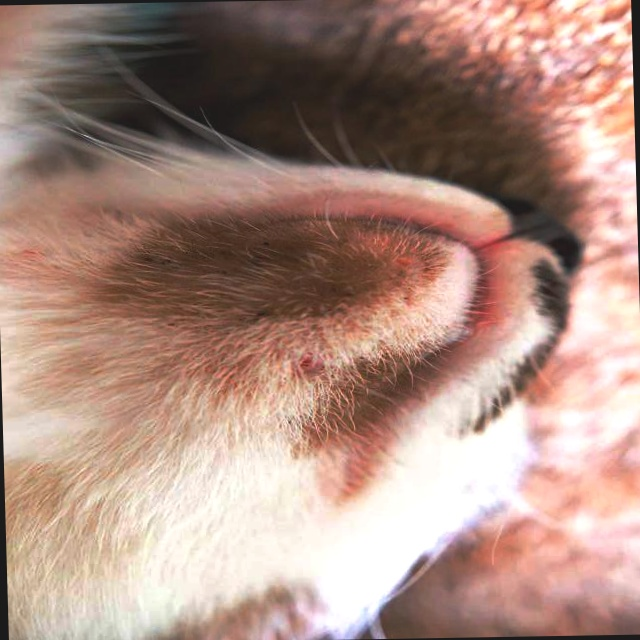acne: (124, 215, 349, 343)
